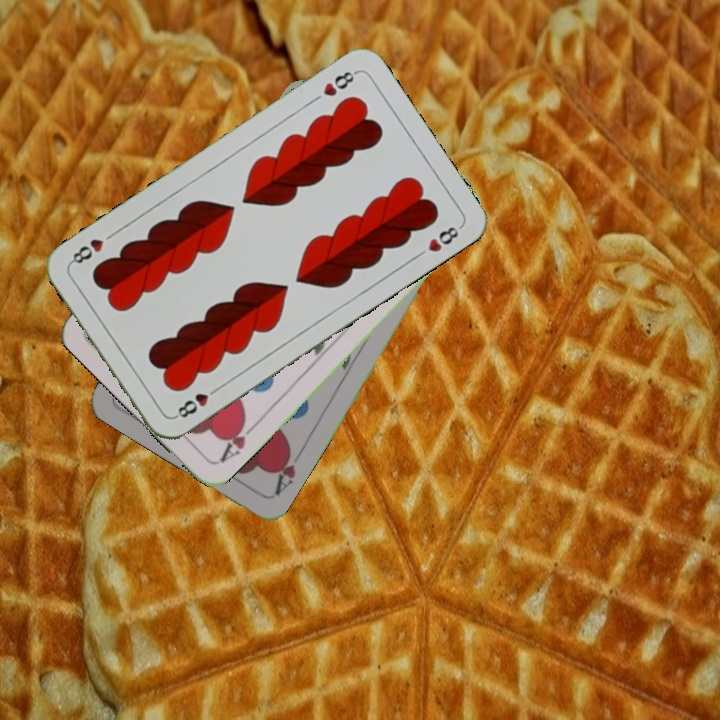H8: (170, 382, 223, 421), (319, 66, 360, 99)
HA: (215, 413, 260, 465), (269, 443, 306, 498)
